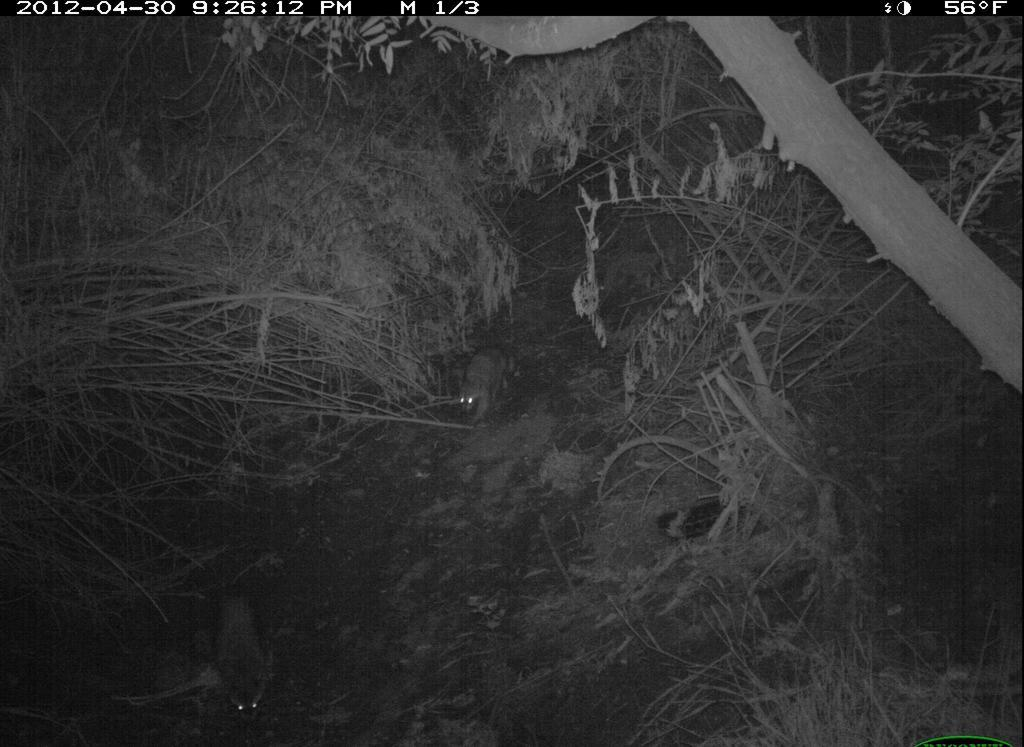raccoon: (207, 587, 280, 731), (445, 338, 521, 429)
